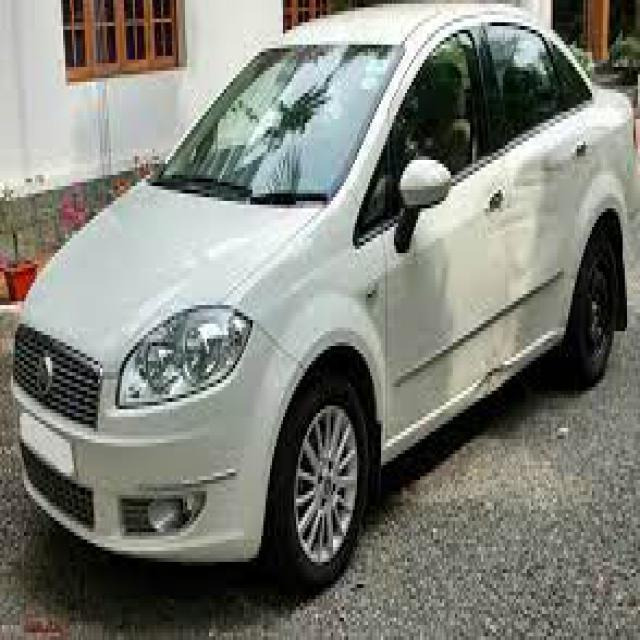doorouter-dent: (342, 160, 529, 432)
